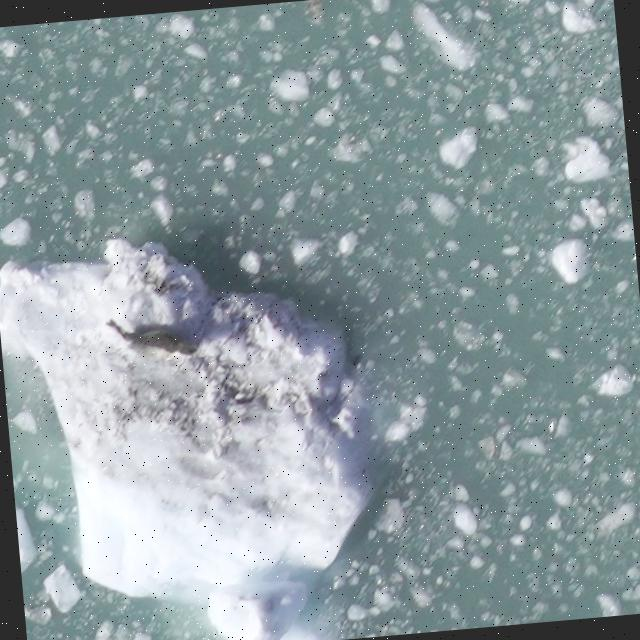seal: (98, 309, 204, 365)
